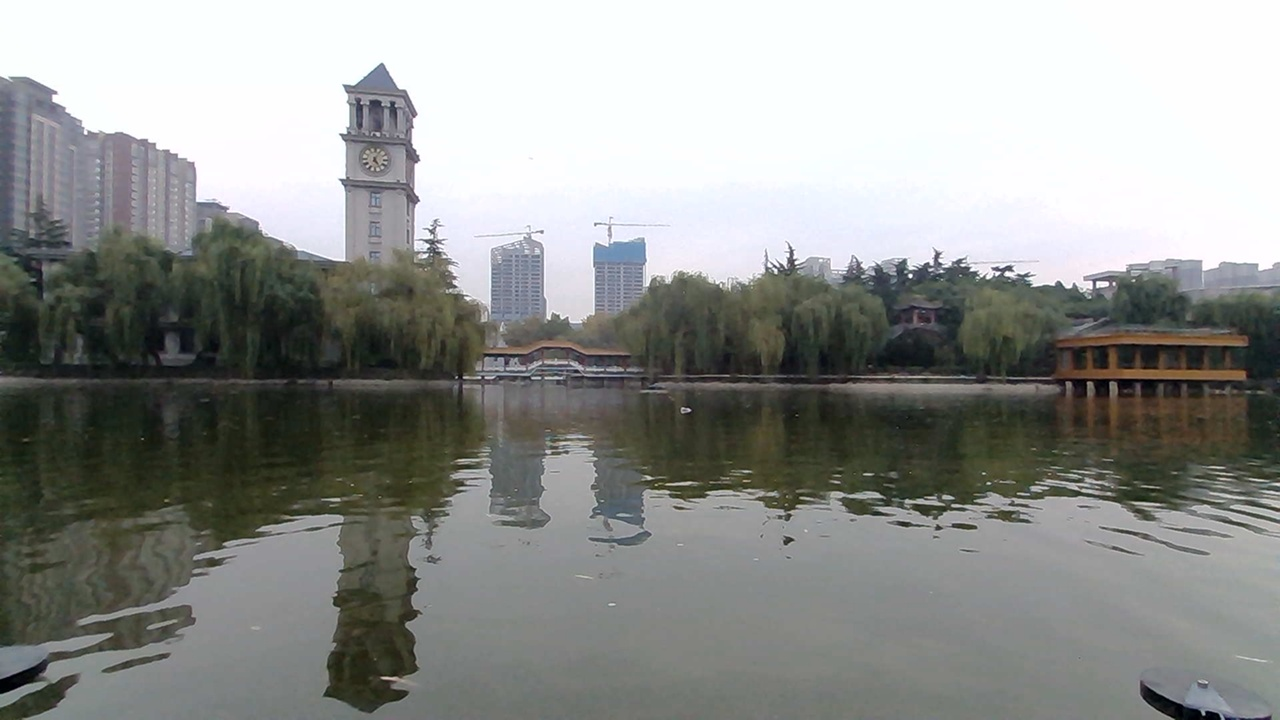bottle: (665, 397, 711, 421)
